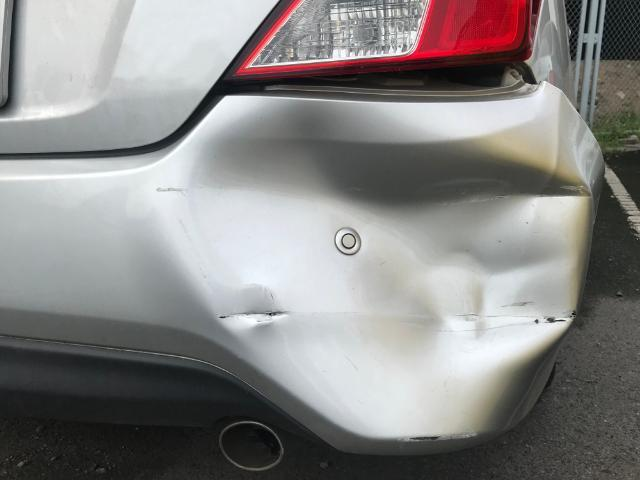dent: (171, 101, 581, 438)
